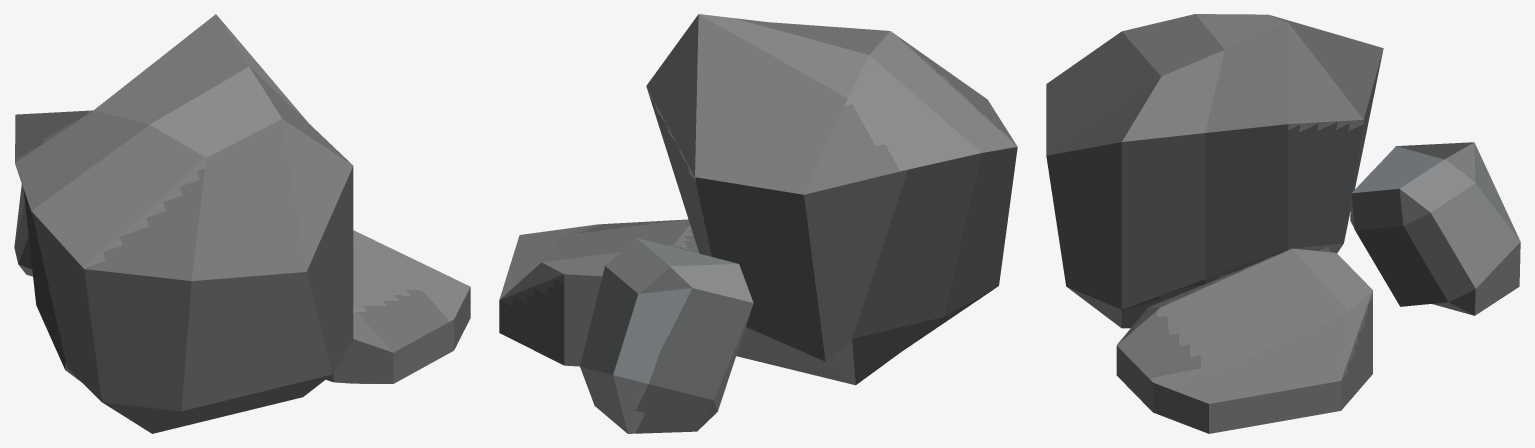
The model's file is kamen.gltf.
3 views of the same model, side by side, from view 1: azimuth 30°, elevation 25°; view 2: azimuth 150°, elevation 25°; view 3: azimuth 270°, elevation 25° (orthographic). The views are drawn at different scales.
Visible parts, largest first — view 1: beveled_cuboid (×3); view 2: beveled_cuboid (×3); view 3: beveled_cuboid (×3).
Boxes of the visible parts, <box> form: beveled_cuboid (×3): <box>14,14,470,433</box>; beveled_cuboid (×3): <box>499,14,1017,433</box>; beveled_cuboid (×3): <box>1046,14,1520,433</box>.
Bounding box in the file's own units: 1.54 × 1.12 × 1.49.
Materials: 1 (1 with a texture image).
